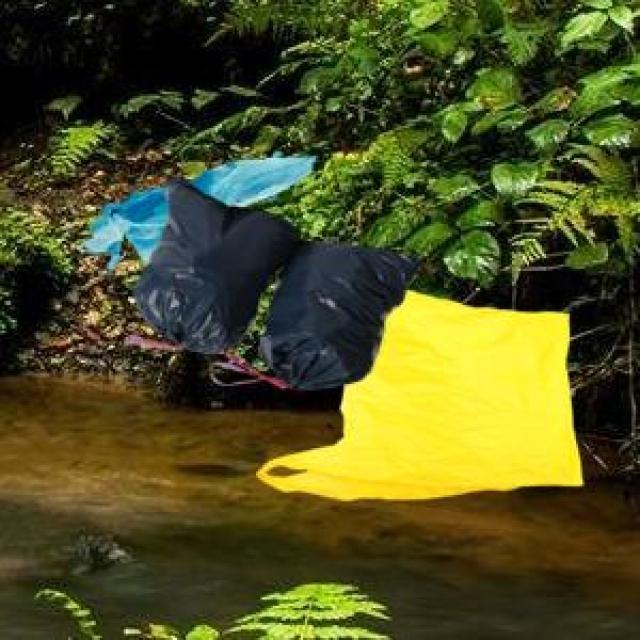miscellaneous trash: (122, 171, 418, 386)
